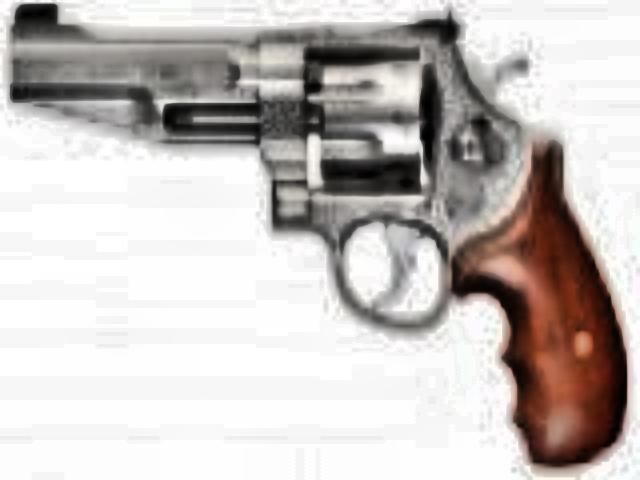pistol: (12, 8, 620, 472)
